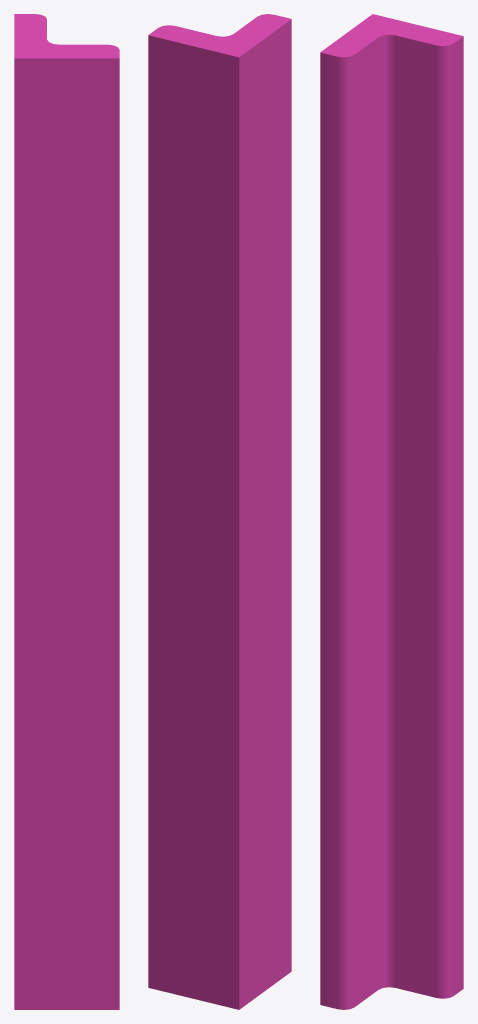
Rendered from Column.fbx.
3 renders of one model, left to right at view 1: azimuth 90°, elevation 25°; view 2: azimuth 150°, elevation 25°; view 3: azimuth 330°, elevation 25°, orthographic.
Visible parts, largest first — view 1: SM_Column; view 2: SM_Column; view 3: SM_Column.
Boxes of the visible parts, bbox=[...] form: SM_Column: bbox=[14, 14, 119, 1009]; SM_Column: bbox=[148, 14, 291, 1009]; SM_Column: bbox=[320, 14, 463, 1009].
Bounding box in the file's own units: 0.3 × 3 × 0.3.
